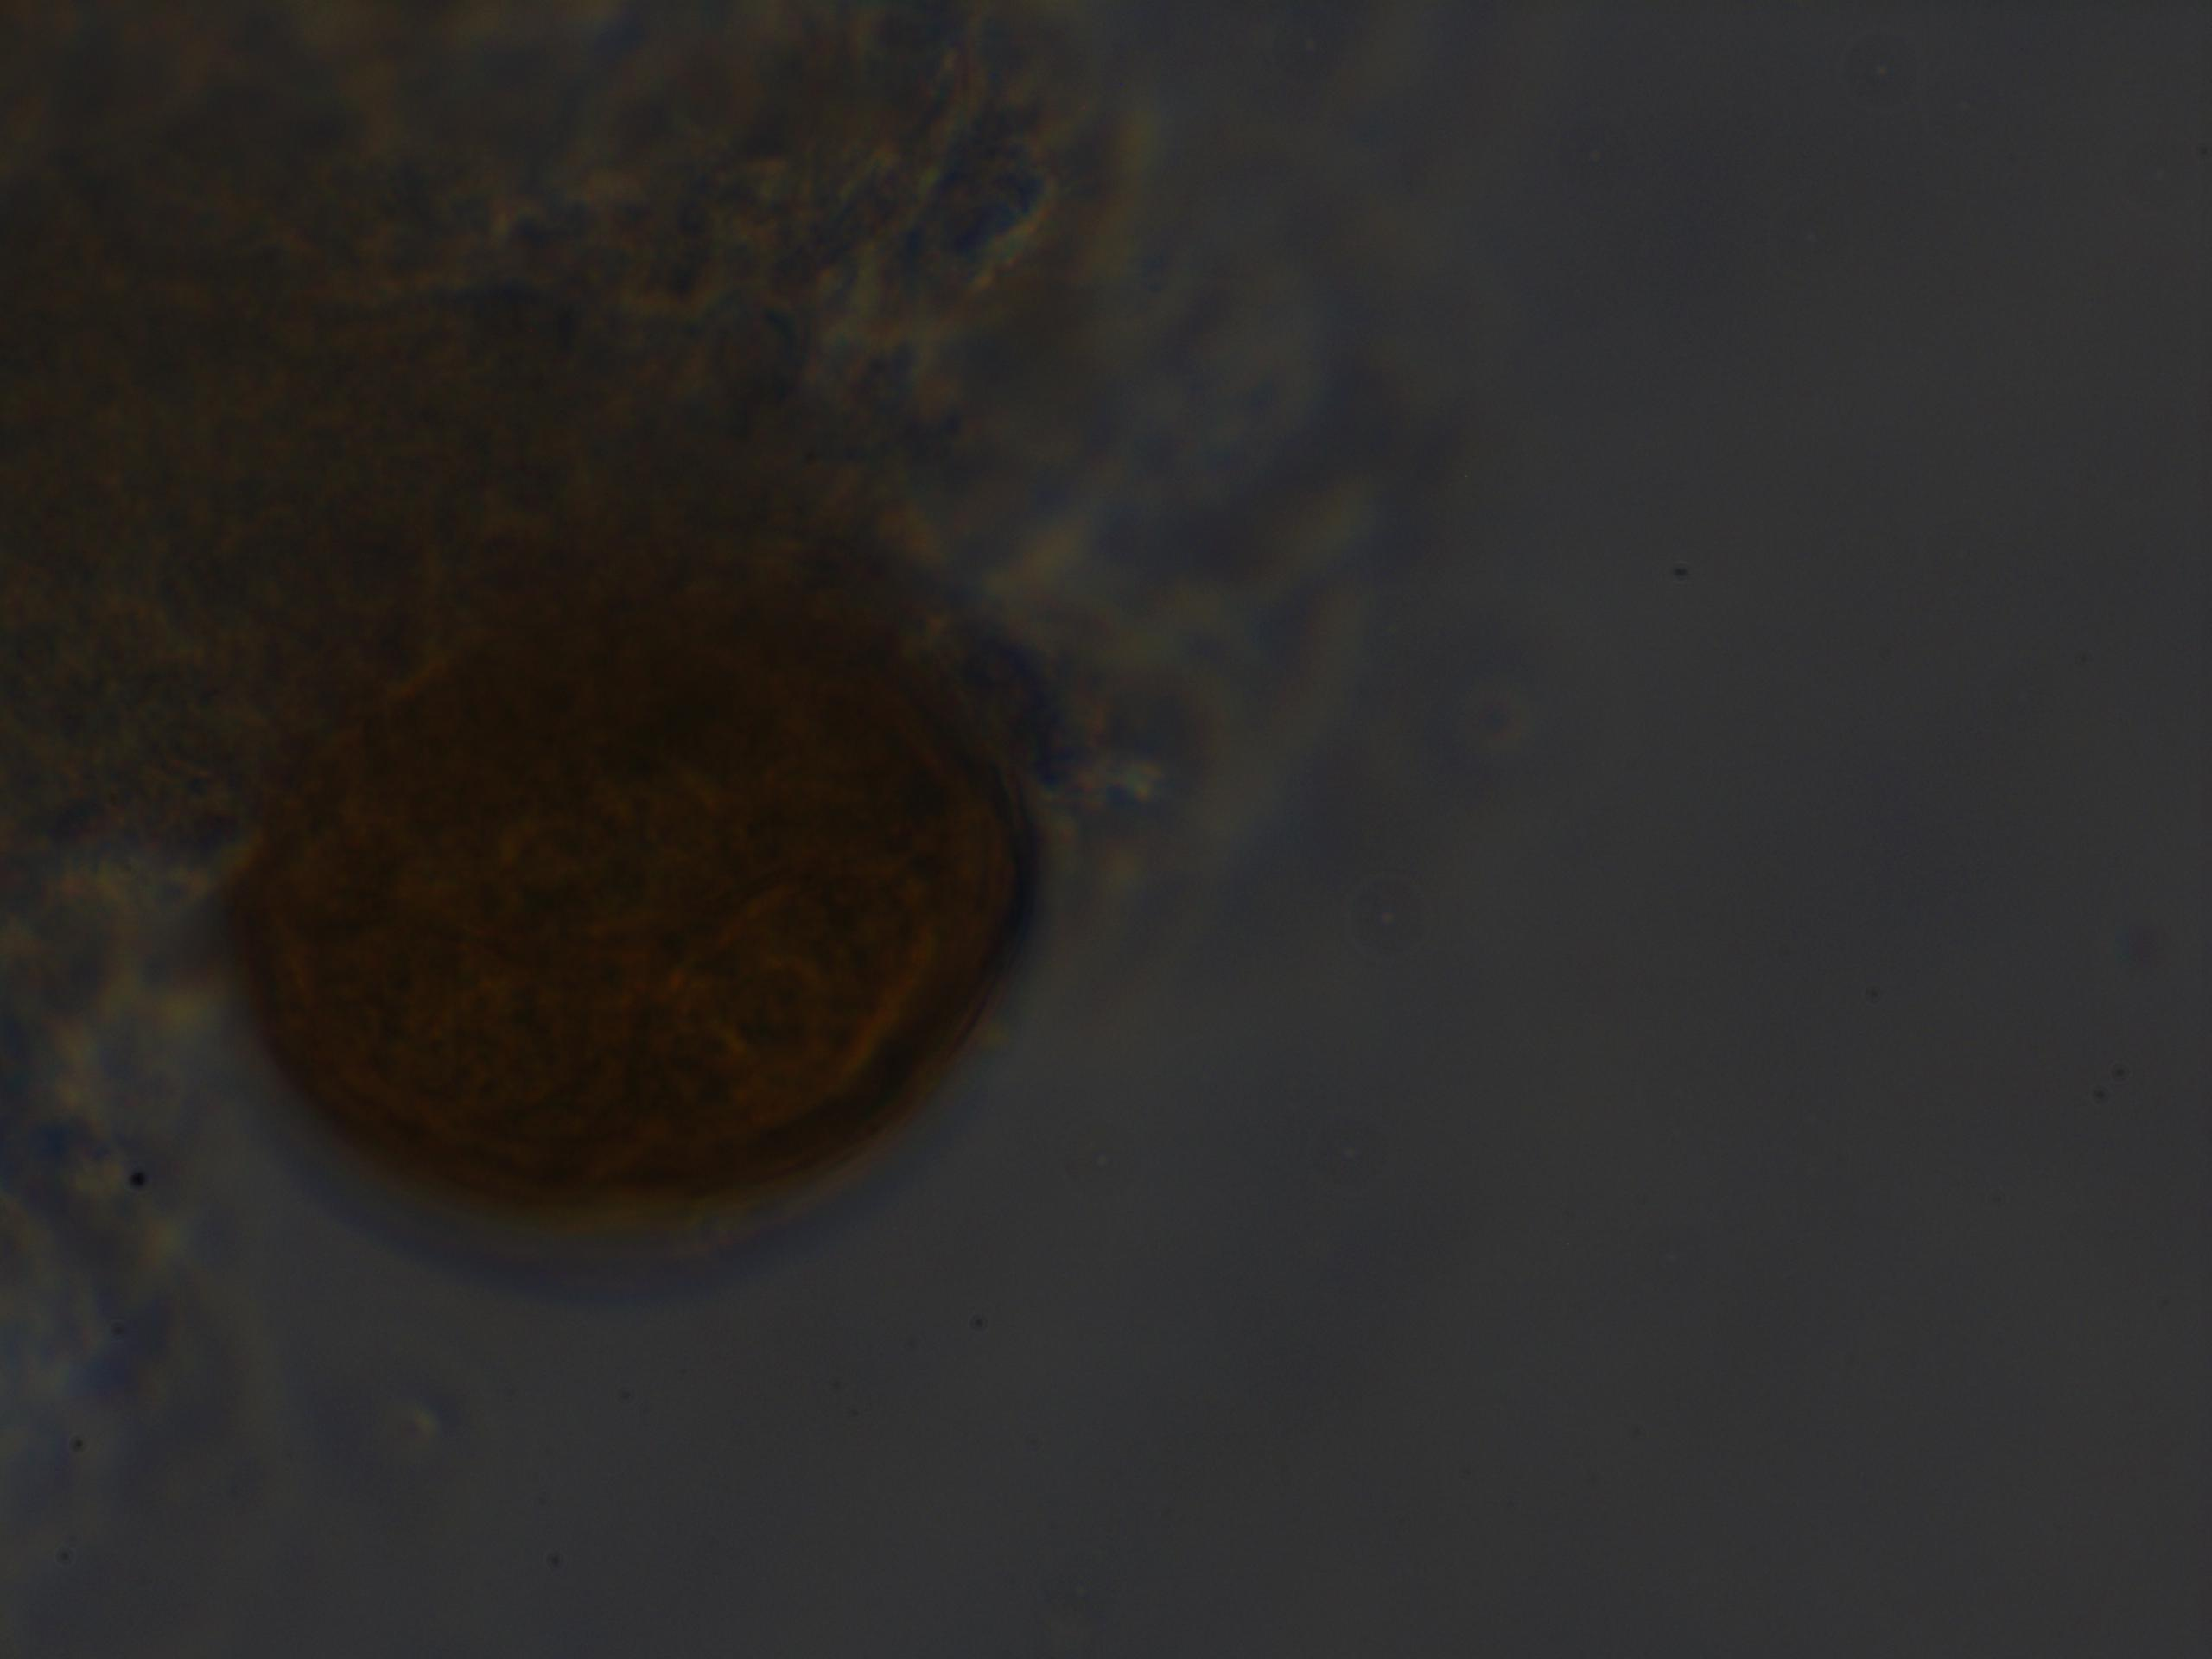protozoa: (176, 547, 1064, 1293)
